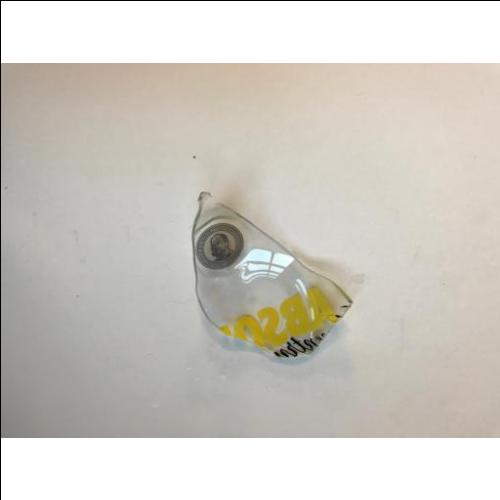glass: (194, 210, 342, 355)
